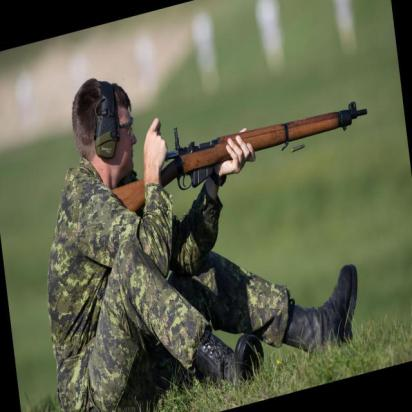Gun: (107, 93, 377, 224)
